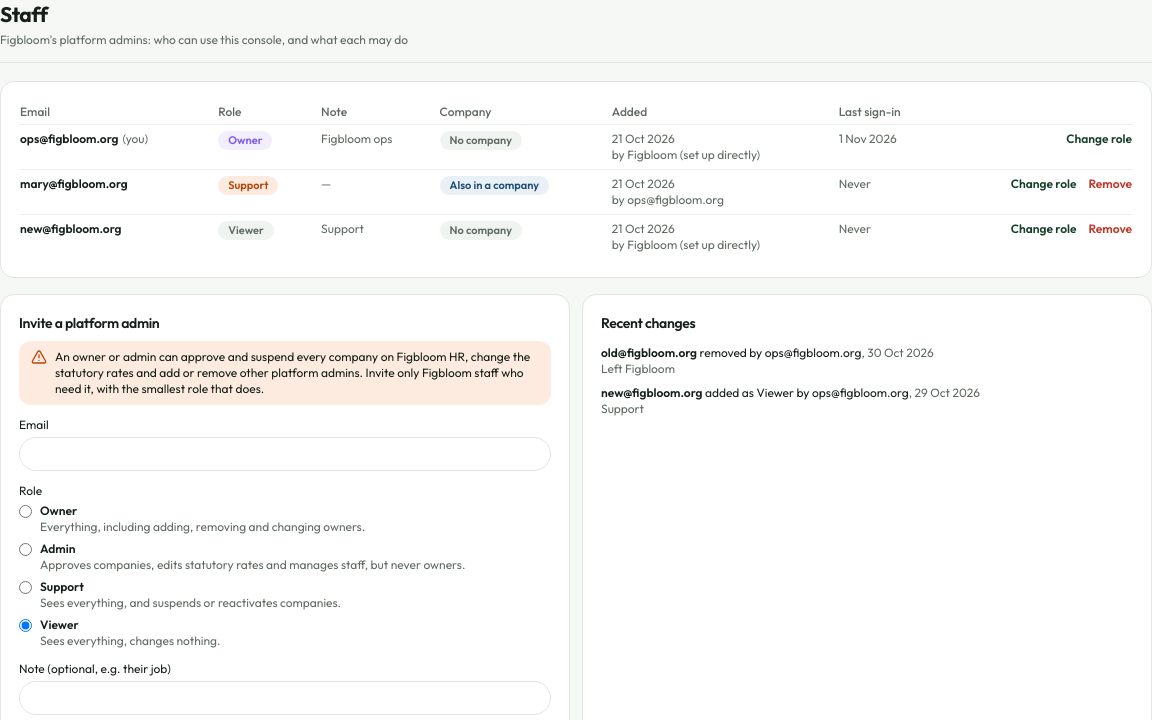
Test case: the Staff page › cancelling the dialog removes nobody
Click the 2nd button "Remove": click(1110, 229) [1088,221,1132,237]
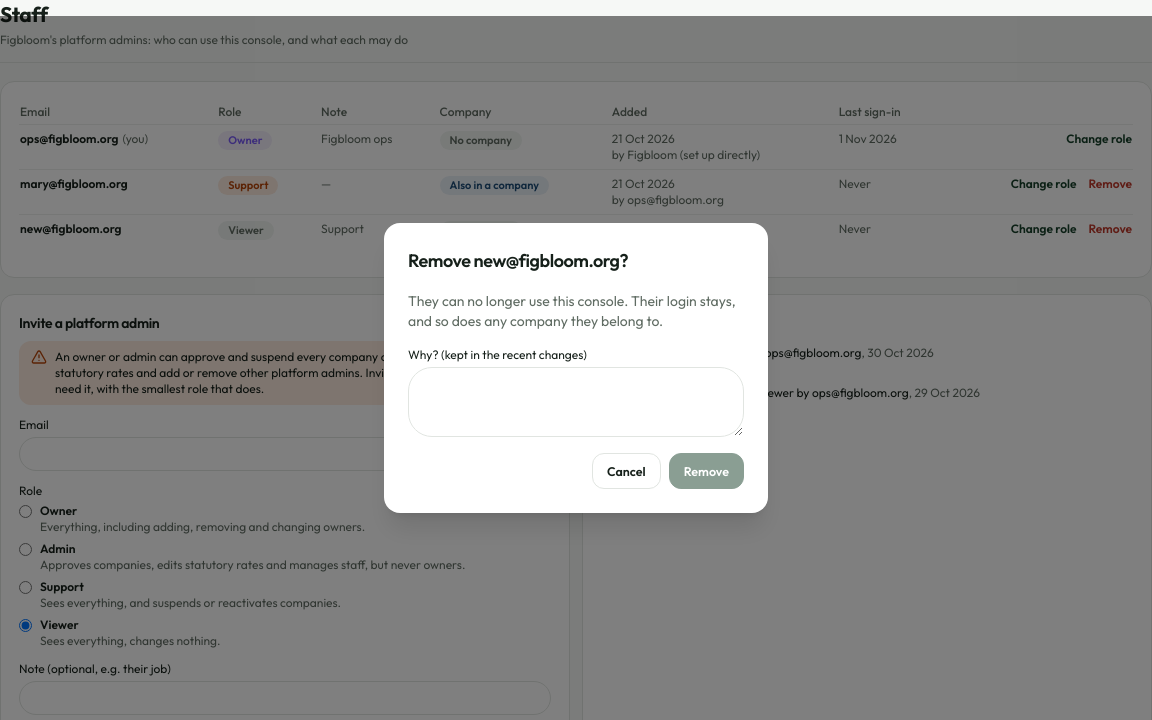
Click the button "Cancel": click(626, 471) [592,453,661,489]
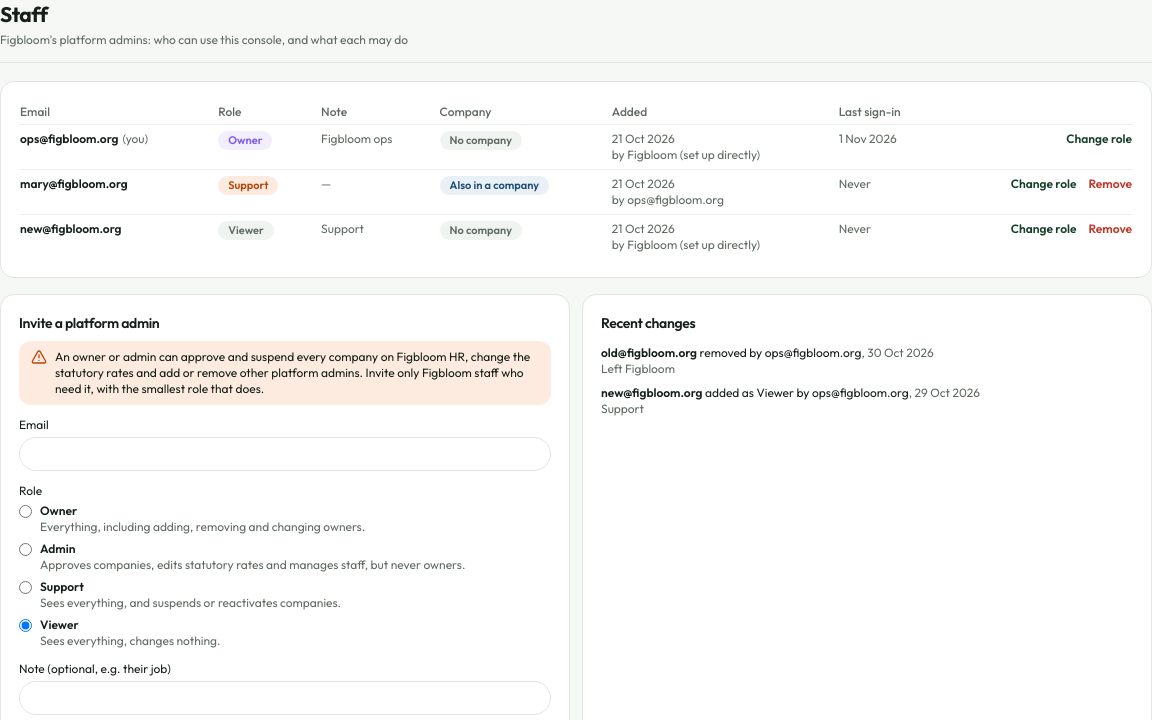
Now the dialog is gone
